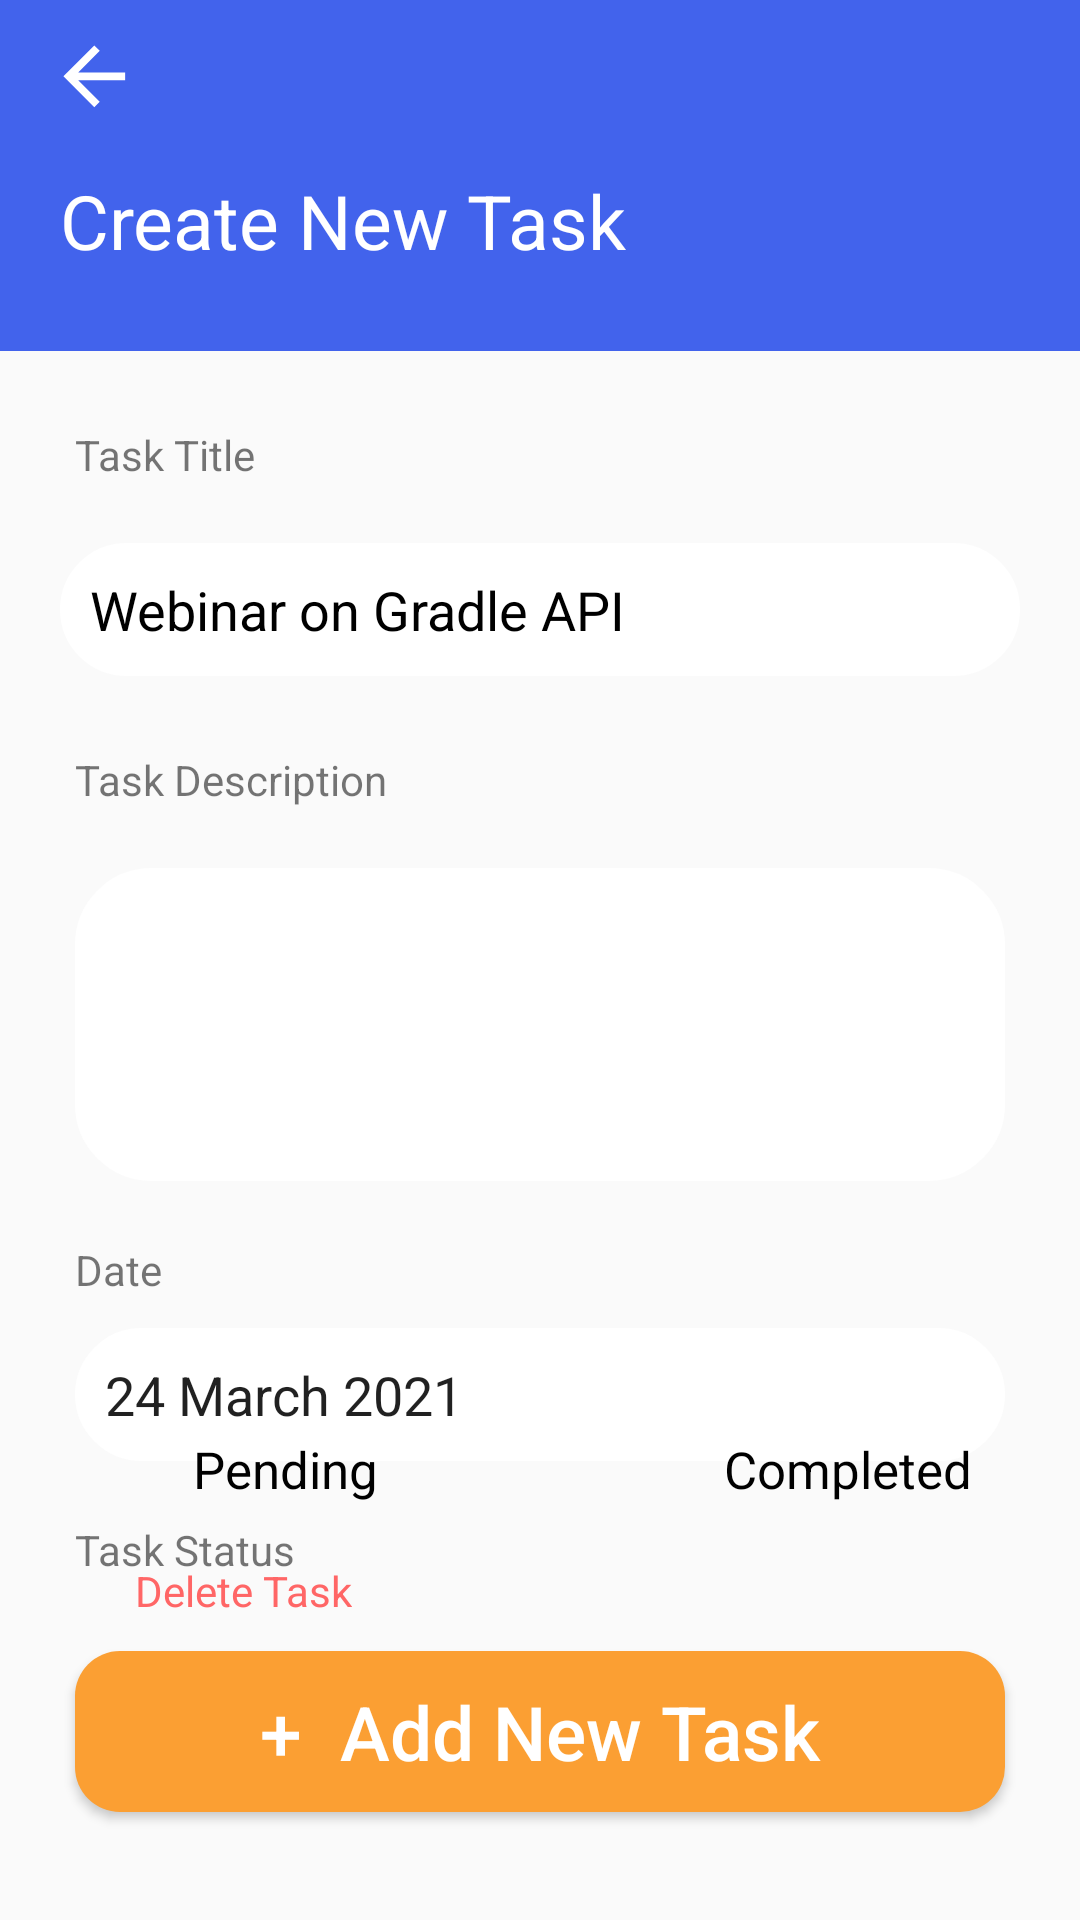

Named icons in this screenshot (1080x1920) and their bounding boxes, (x1, y1, x2, y2):
arrow back: (63, 45, 126, 107)
